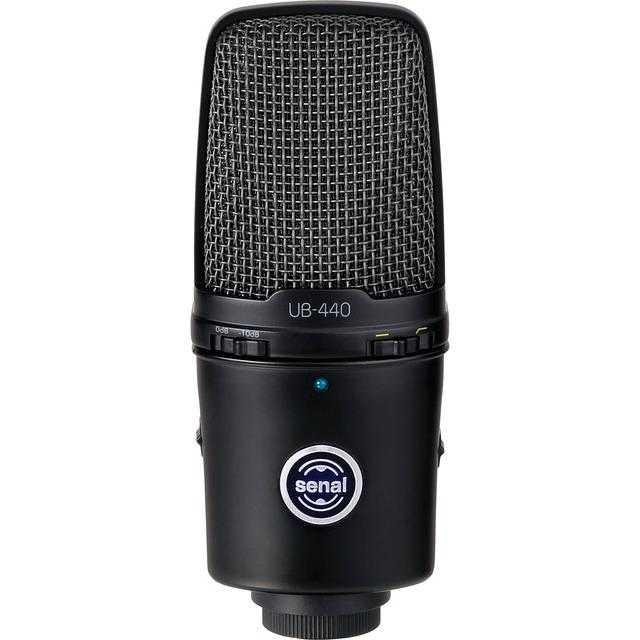microphone: (182, 4, 483, 626)
